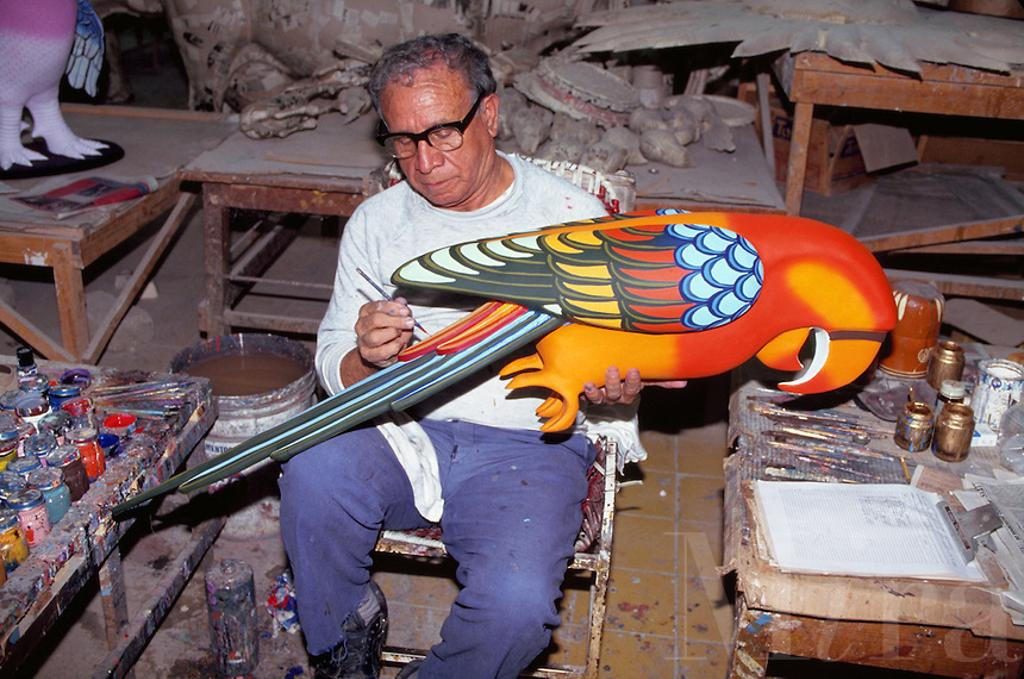face: (388, 72, 476, 202)
